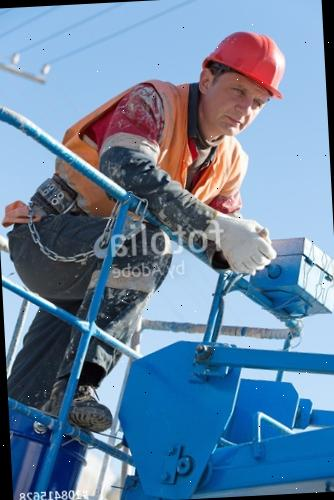helmet: (199, 26, 290, 99)
wear: (54, 134, 252, 236)
